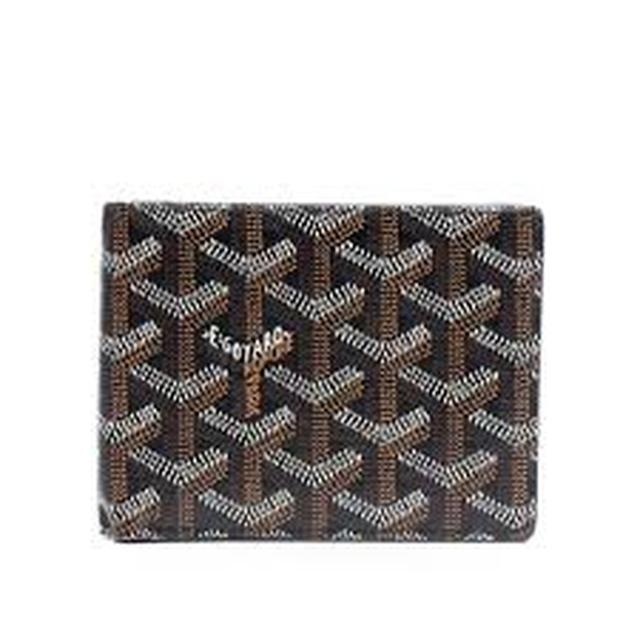wallet: (72, 185, 576, 567)
